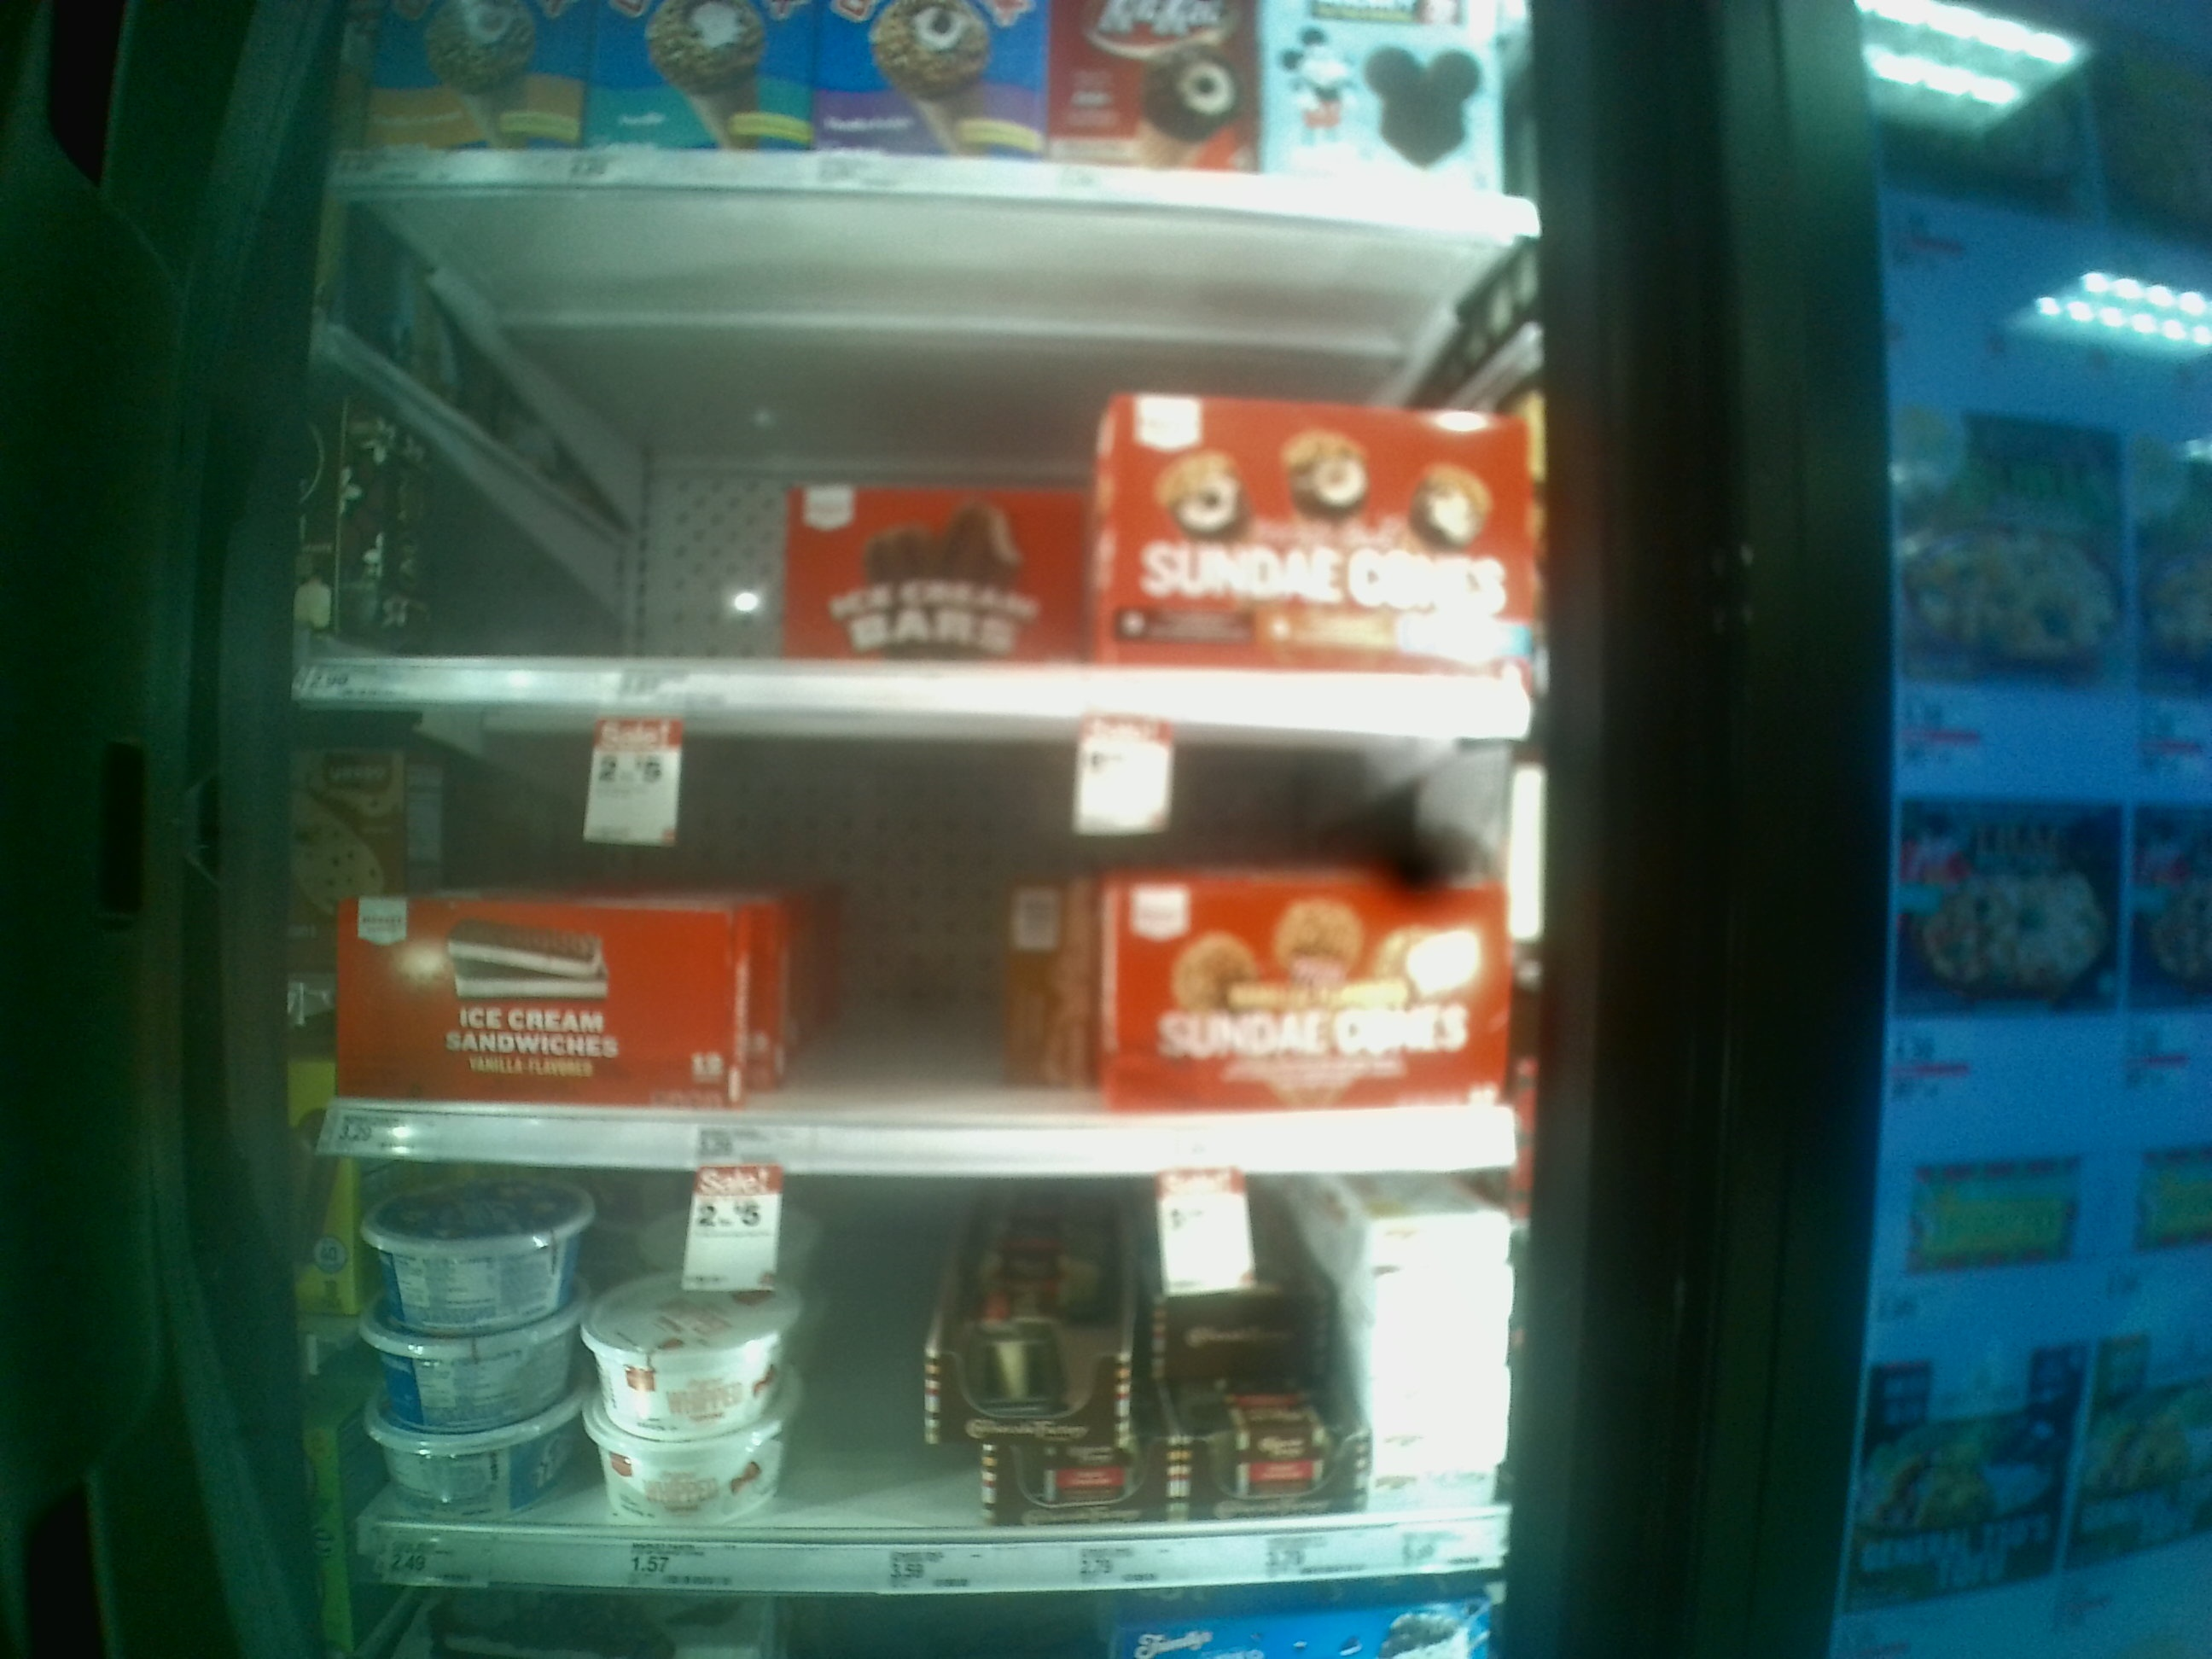frozen-food-shelf: (289, 211, 1561, 746), (289, 751, 1559, 1175), (284, 1178, 1564, 1588)
